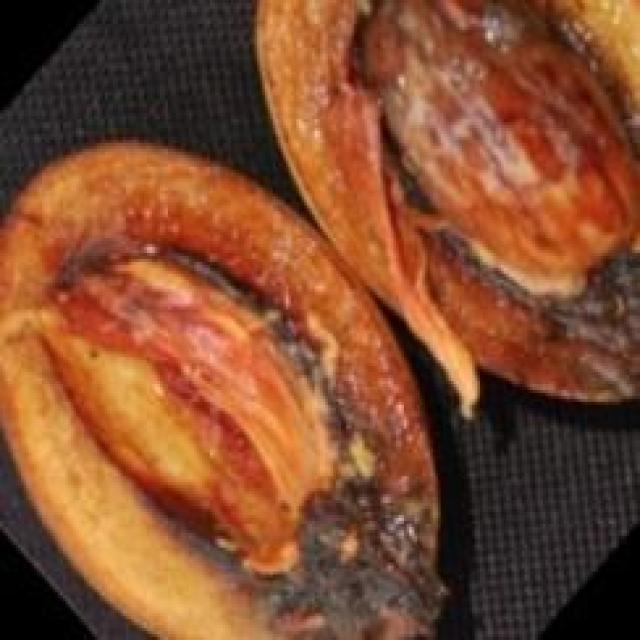damaged: (0, 140, 451, 637), (254, 0, 637, 408)
